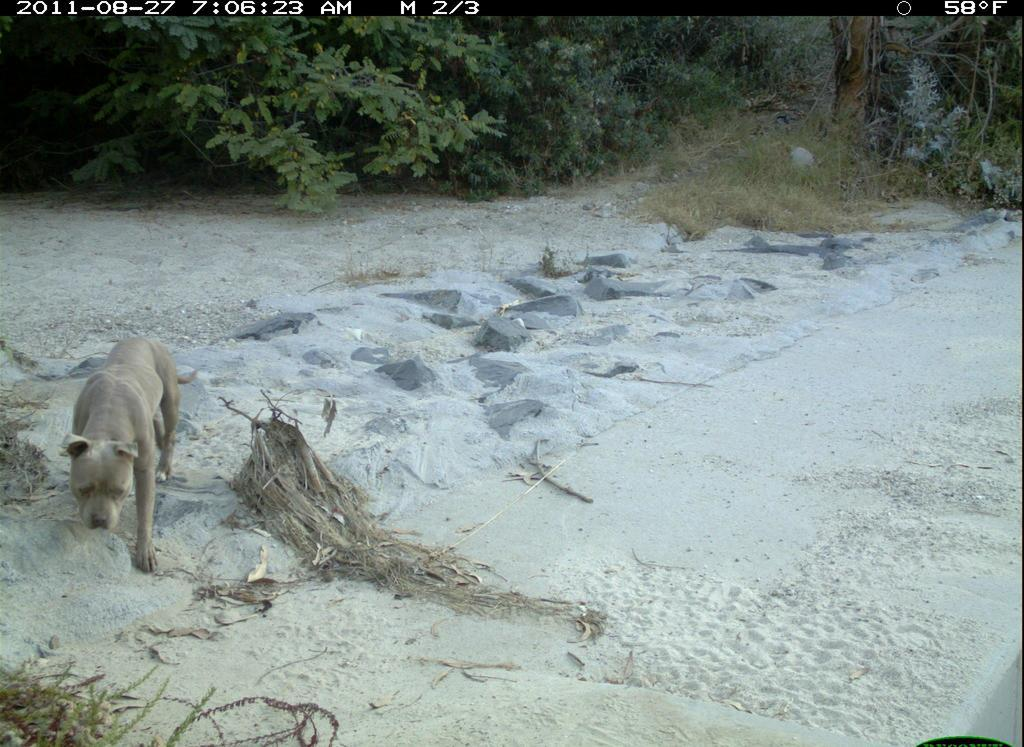dog: (53, 329, 213, 585)
